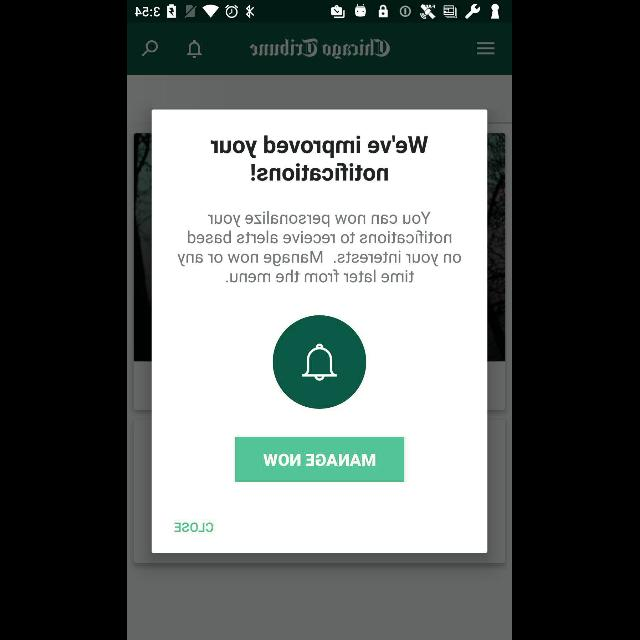icon: (142, 41, 160, 58), (188, 40, 202, 59), (477, 42, 495, 56)
image: (273, 315, 367, 409), (251, 38, 391, 60)
panel: (152, 109, 488, 553)
text: (178, 211, 462, 283), (212, 136, 428, 182), (176, 522, 214, 532)
textbutton: (235, 436, 405, 482)
uppertaskbar: (128, 1, 512, 23)
